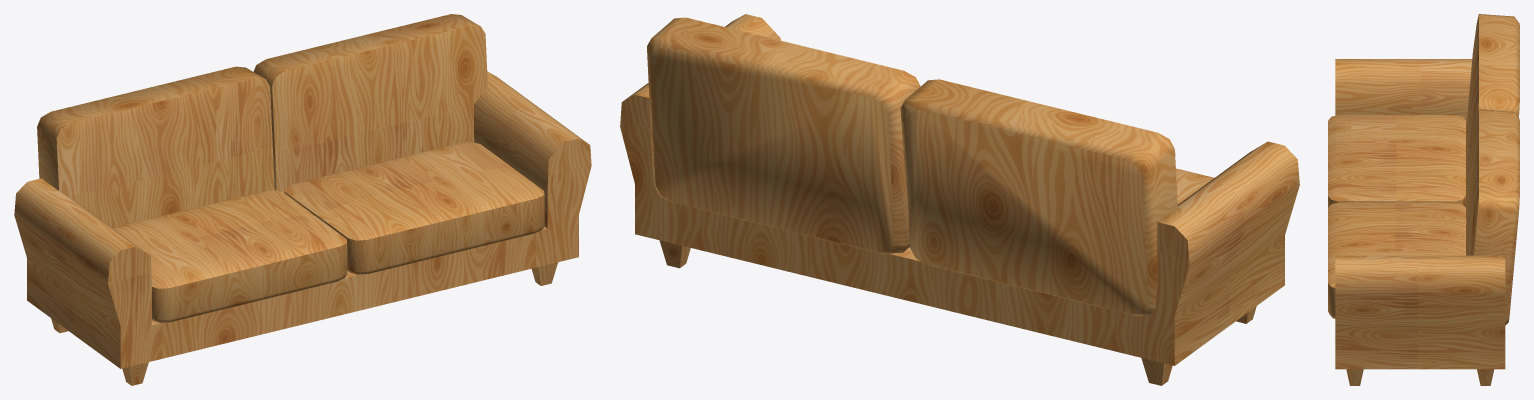
Rendered from Livingroom_Sofa_Couple_Drop.fbx.
The picture shows the model from 3 angles, left to right: view 1: azimuth 30°, elevation 25°; view 2: azimuth 150°, elevation 25°; view 3: azimuth 270°, elevation 25°; orthographic projection. The views are drawn at different scales.
Visible parts, largest first — view 1: Livingroom_Sofa_Couple_Drop.003, Livingroom_Sofa_Couple_Drop.004, Livingroom_Sofa_Couple_Drop.002, Livingroom_Sofa_Couple_Drop.001, Livingroom_Sofa_Couple_Drop.005, Livingroom_Sofa_Couple_Drop.000, Livingroom_Sofa_Couple_Drop.006; view 2: Livingroom_Sofa_Couple_Drop.003, Livingroom_Sofa_Couple_Drop.004, Livingroom_Sofa_Couple_Drop.005, Livingroom_Sofa_Couple_Drop.000, Livingroom_Sofa_Couple_Drop.006, Livingroom_Sofa_Couple_Drop.001, Livingroom_Sofa_Couple_Drop.008, Livingroom_Sofa_Couple_Drop.009; view 3: Livingroom_Sofa_Couple_Drop.006, Livingroom_Sofa_Couple_Drop.001, Livingroom_Sofa_Couple_Drop.002, Livingroom_Sofa_Couple_Drop.004, Livingroom_Sofa_Couple_Drop.005, Livingroom_Sofa_Couple_Drop.003, Livingroom_Sofa_Couple_Drop.010, Livingroom_Sofa_Couple_Drop.009.
Boxes of the visible parts, x1,y1,x2,y2 form: Livingroom_Sofa_Couple_Drop.003: [37, 66, 274, 227]; Livingroom_Sofa_Couple_Drop.004: [253, 14, 487, 192]; Livingroom_Sofa_Couple_Drop.002: [284, 142, 544, 274]; Livingroom_Sofa_Couple_Drop.001: [112, 190, 347, 322]; Livingroom_Sofa_Couple_Drop.005: [14, 178, 151, 368]; Livingroom_Sofa_Couple_Drop.000: [152, 226, 547, 361]; Livingroom_Sofa_Couple_Drop.006: [474, 71, 591, 264]; Livingroom_Sofa_Couple_Drop.003: [900, 79, 1177, 315]; Livingroom_Sofa_Couple_Drop.004: [647, 17, 920, 254]; Livingroom_Sofa_Couple_Drop.005: [1137, 141, 1299, 365]; Livingroom_Sofa_Couple_Drop.000: [672, 202, 1137, 356]; Livingroom_Sofa_Couple_Drop.006: [620, 14, 780, 243]; Livingroom_Sofa_Couple_Drop.001: [1176, 168, 1214, 204]; Livingroom_Sofa_Couple_Drop.008: [1141, 358, 1172, 385]; Livingroom_Sofa_Couple_Drop.009: [659, 240, 690, 268]; Livingroom_Sofa_Couple_Drop.006: [1335, 255, 1505, 369]; Livingroom_Sofa_Couple_Drop.001: [1328, 115, 1465, 207]; Livingroom_Sofa_Couple_Drop.002: [1328, 202, 1465, 318]; Livingroom_Sofa_Couple_Drop.004: [1466, 109, 1519, 325]; Livingroom_Sofa_Couple_Drop.005: [1335, 59, 1472, 128]; Livingroom_Sofa_Couple_Drop.003: [1466, 14, 1519, 219]; Livingroom_Sofa_Couple_Drop.010: [1346, 369, 1363, 385]; Livingroom_Sofa_Couple_Drop.009: [1477, 369, 1494, 385].
Size of the model in its own units: 257 by 106 by 97.28.
